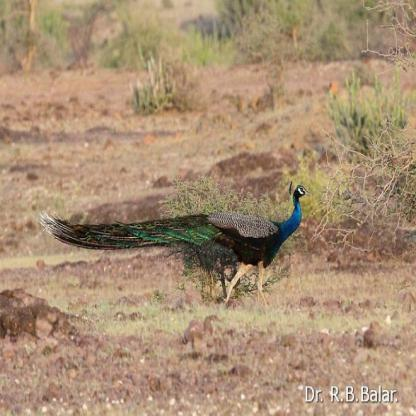Burung: (37, 180, 310, 306)
